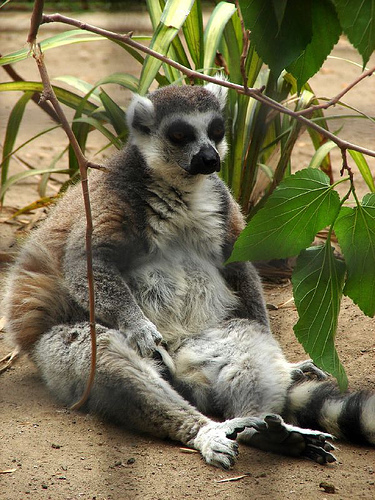cat: (1, 43, 373, 480)
